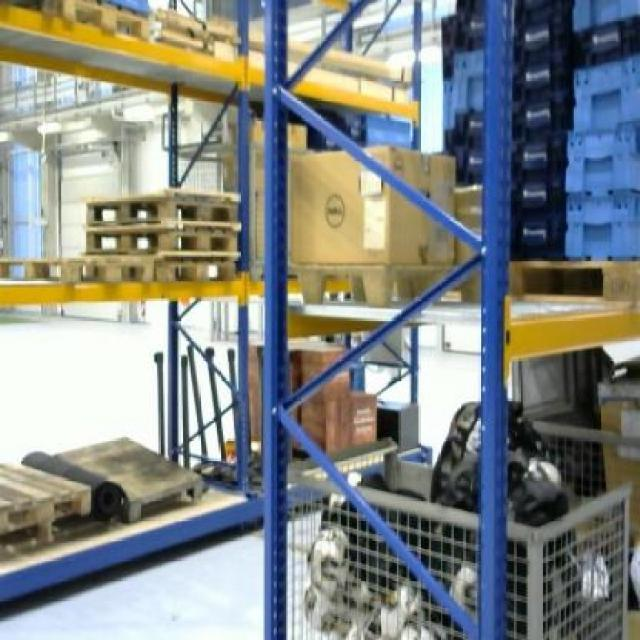box: (288, 146, 454, 262), (298, 400, 350, 458), (296, 347, 350, 398), (349, 390, 378, 444)
